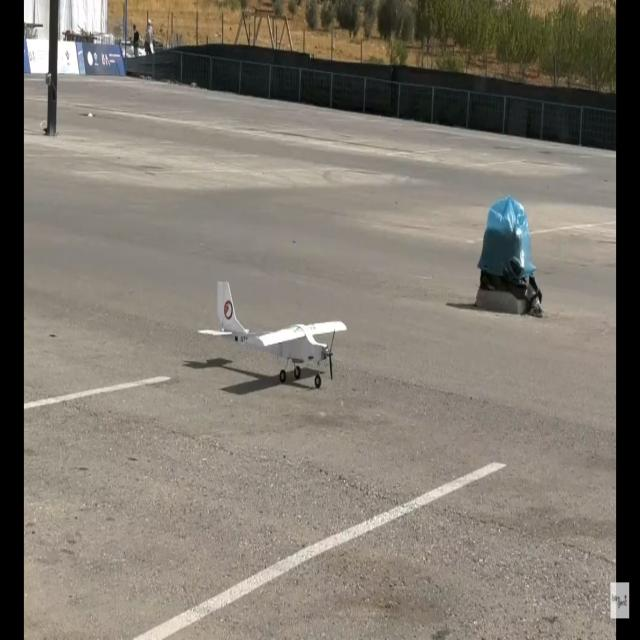iha: (196, 310, 348, 359)
